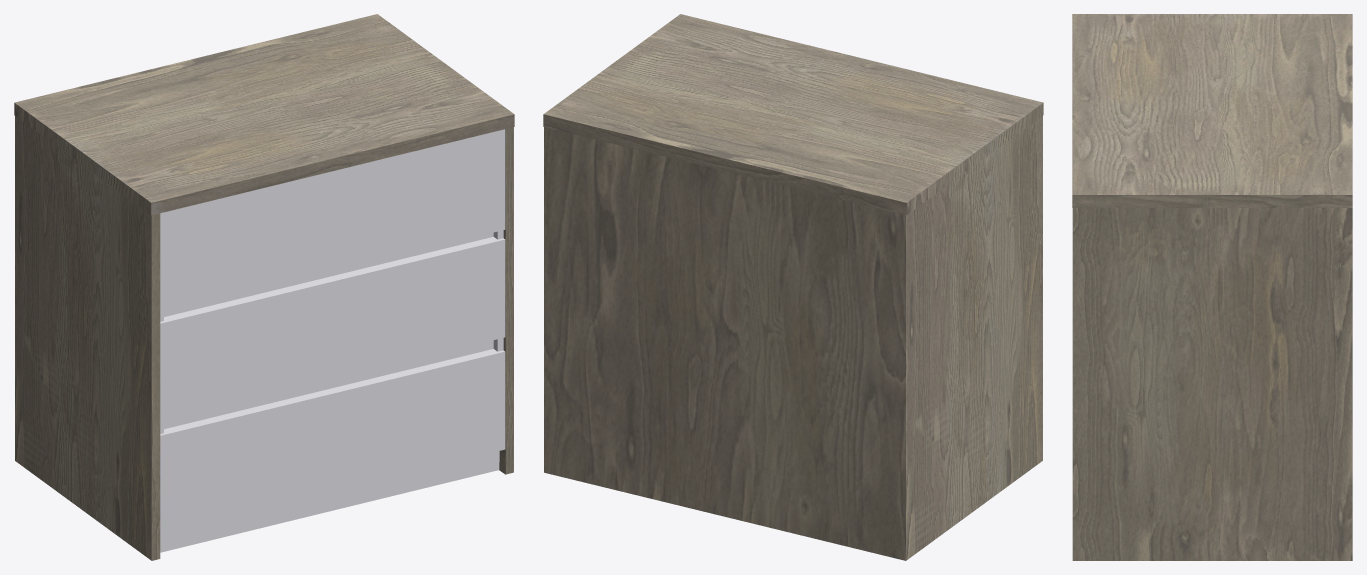
The model's file is appliance_B07GFRP9RY.glb.
The picture shows the model from 3 angles, left to right: view 1: azimuth 30°, elevation 25°; view 2: azimuth 150°, elevation 25°; view 3: azimuth 270°, elevation 25°; orthographic projection. The views are drawn at different scales.
Visible parts, largest first — view 1: RootNode; view 2: RootNode; view 3: RootNode.
Part boxes in pixels (<box>): RootNode: <box>14,14,514,560</box>; RootNode: <box>543,14,1043,560</box>; RootNode: <box>1072,14,1352,560</box>.
Bounding box in the file's own units: 0.8086 × 0.7623 × 0.5286.
1 material, 1 textured.
